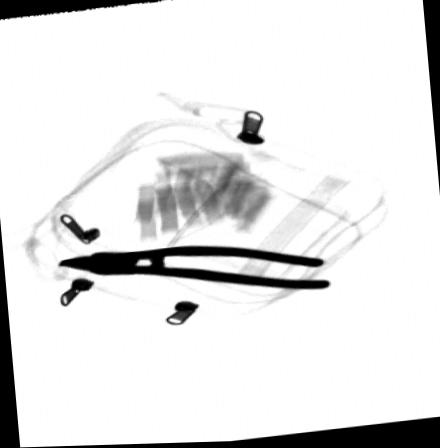Pliers: (55, 245, 331, 294)
